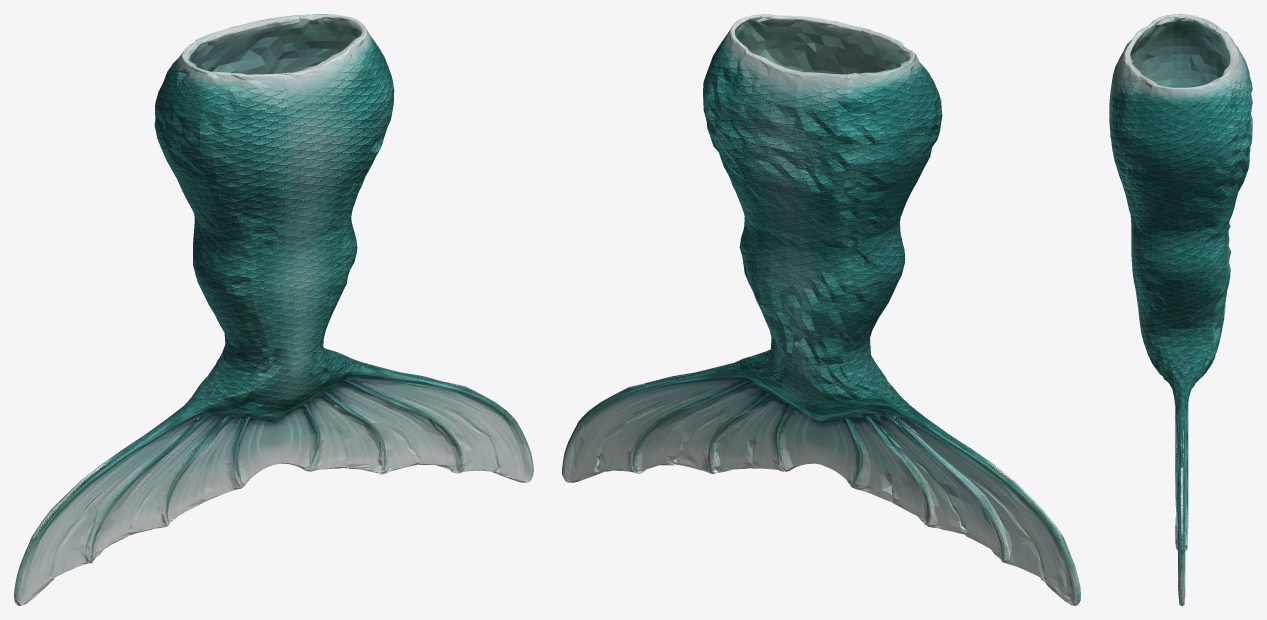
Rendered from ewm_mermaidtail.glb.
3 views of the same model, side by side, from view 1: azimuth 30°, elevation 25°; view 2: azimuth 150°, elevation 25°; view 3: azimuth 270°, elevation 25° (orthographic). The views are drawn at different scales.
Parts seen in each view (by area): view 1: ewm_mermaidtail; view 2: ewm_mermaidtail; view 3: ewm_mermaidtail.
Boxes of the visible parts, x1,y1,x2,y2 form: ewm_mermaidtail: (14, 14, 533, 605); ewm_mermaidtail: (562, 14, 1080, 605); ewm_mermaidtail: (1109, 14, 1252, 605).
Bounding box in the file's own units: 1.18 × 1.09 × 0.3185.
1 material, 1 textured.
